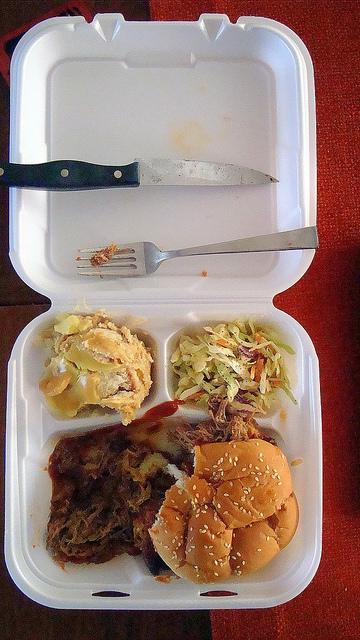carrot: (254, 333, 276, 356), (255, 359, 264, 383), (187, 392, 204, 399), (250, 363, 255, 380), (216, 339, 229, 345), (272, 380, 280, 388)
